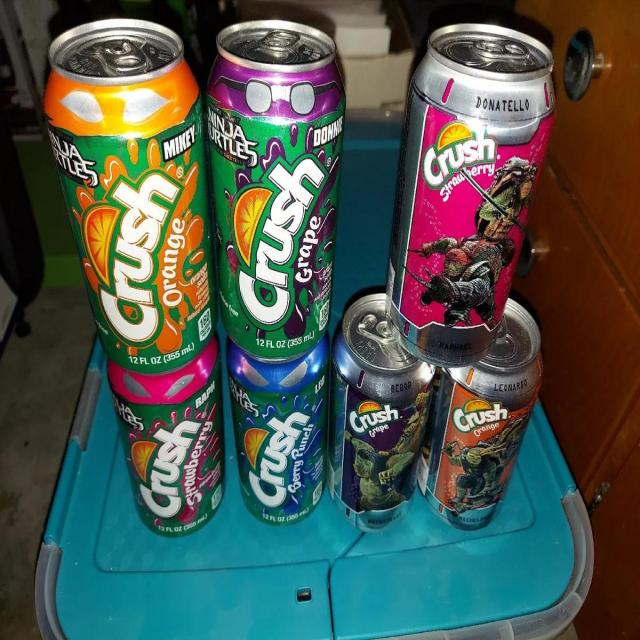can: (43, 15, 218, 372), (386, 21, 556, 368), (205, 18, 347, 364), (418, 298, 548, 530), (325, 289, 437, 535), (108, 333, 228, 536), (225, 323, 333, 526)
pop tab: (94, 39, 147, 74), (353, 310, 398, 344), (472, 36, 530, 60), (260, 26, 302, 52)
